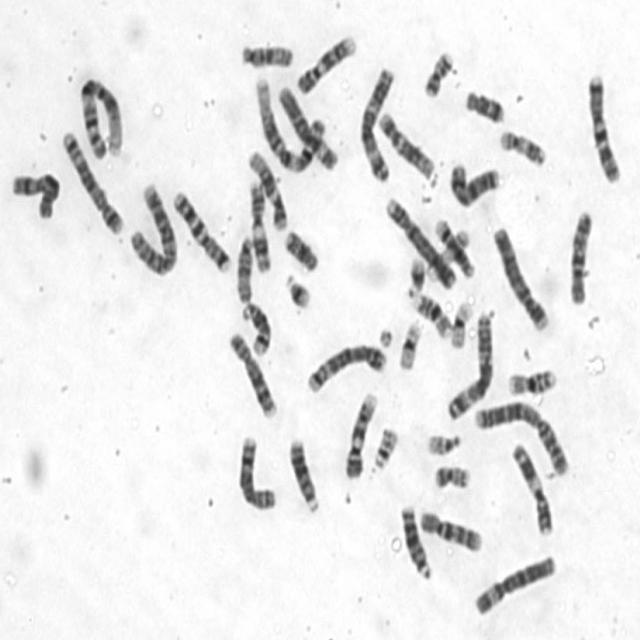A1: (250, 74, 340, 174), (76, 74, 126, 161)
A2: (472, 397, 571, 478), (126, 179, 178, 277)
A3: (444, 308, 494, 420), (356, 62, 396, 185)
B4: (383, 193, 458, 291), (490, 222, 551, 334)
B5: (58, 127, 125, 236), (304, 339, 388, 395)
C10: (416, 506, 485, 554), (566, 205, 595, 307)
C11: (509, 439, 555, 538), (247, 177, 272, 275)
C12: (375, 108, 436, 180), (245, 146, 289, 232)
C6: (469, 550, 557, 620), (275, 81, 338, 173)
C7: (170, 186, 232, 274), (585, 68, 623, 185)
C8: (225, 329, 279, 421), (232, 432, 278, 511)
C9: (293, 31, 357, 95), (342, 388, 379, 481)
D13: (286, 432, 320, 516), (398, 500, 432, 581)
D14: (432, 215, 476, 281), (238, 298, 273, 356)
D15: (238, 40, 295, 70), (234, 232, 255, 305)
E16: (410, 290, 453, 338), (505, 365, 558, 396)
E17: (425, 227, 471, 286), (496, 124, 548, 168)
E18: (462, 86, 507, 126), (282, 225, 320, 272)
F19: (396, 316, 424, 372), (448, 296, 476, 350)
F20: (420, 46, 456, 100), (431, 462, 472, 491)
G21: (282, 270, 313, 310), (404, 254, 426, 298)
G22: (370, 423, 400, 471), (423, 428, 464, 458)
X: (9, 168, 62, 221), (446, 159, 500, 208)
